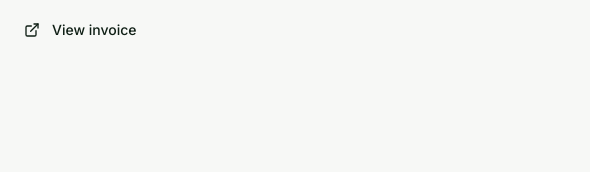
SecureExternalLink › keeps the Open link and offers manual copy when copying is refused
Click the button "View invoice" at (80, 30), box [12,12,149,48]
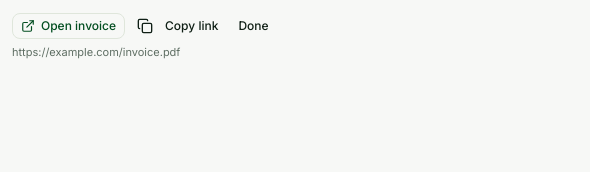
Expected: the link "Open invoice" is shown, [12,13,125,39]
Click the button "Copy link" at (178, 26), box [129,12,226,40]
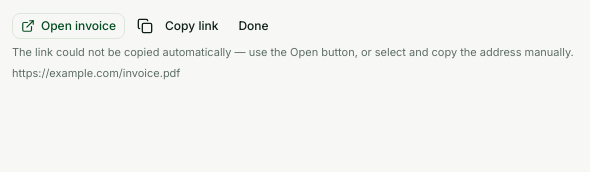
Expected: the link "Open invoice" is shown, [12,13,125,39]
Expected: the text "could not be copied automatically" is shown, [12,45,574,59]
